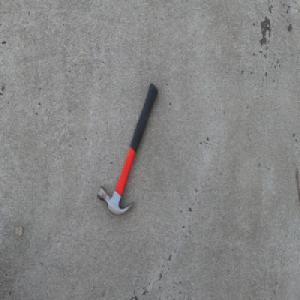Hammer: (96, 82, 158, 216)
